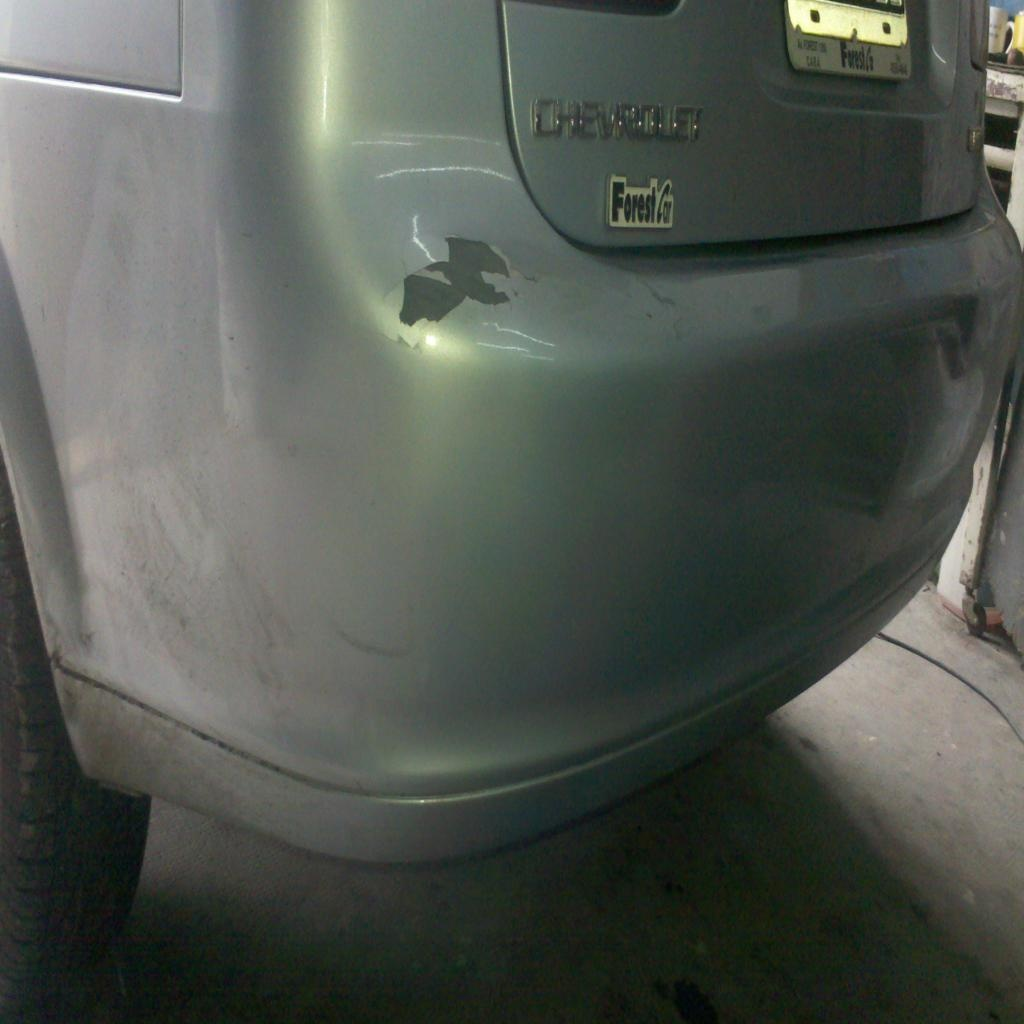Scratch: (375, 217, 562, 366), (348, 131, 517, 191), (927, 44, 955, 71)
